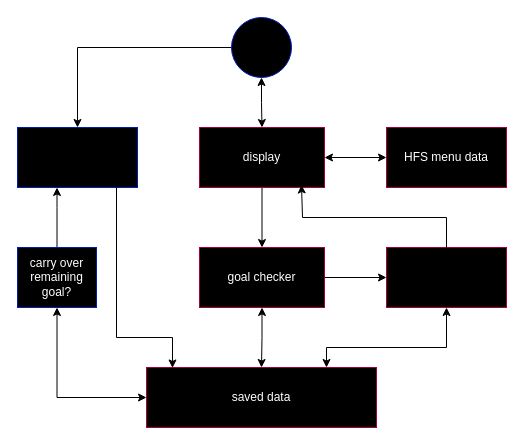
The diagram is 524 pixels wide and 445 high, and some of its shapes have lost their labels. The shapes that lost their labels are listed below. From the top down, each one's box as (x1, y1, x2, y2) in pixels, then its label:
(230, 16, 292, 78): User
(16, 126, 138, 188): goals & specs
(386, 246, 506, 308): streak tracker
